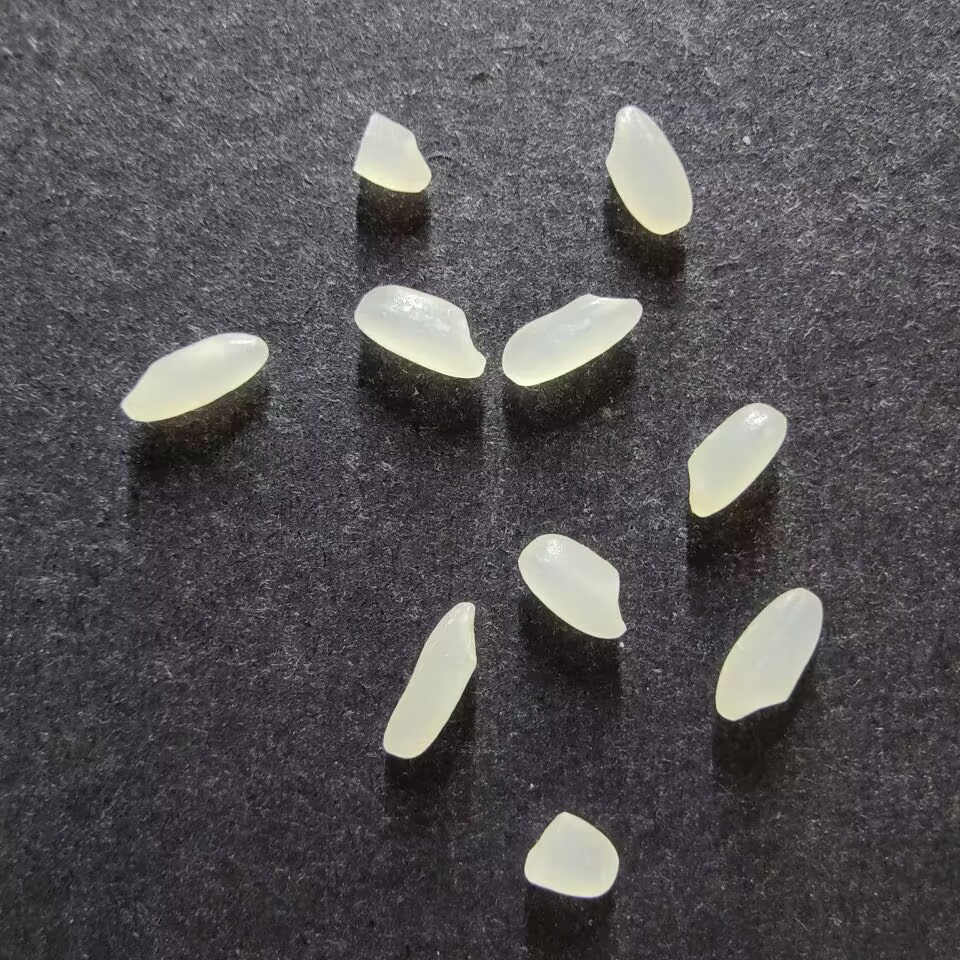broken: (523, 810, 618, 898), (352, 112, 431, 194)
rice: (381, 601, 477, 759), (714, 586, 823, 721), (120, 332, 269, 423), (500, 293, 643, 387), (353, 284, 486, 379), (686, 401, 787, 518), (517, 533, 627, 640), (605, 105, 693, 235)
